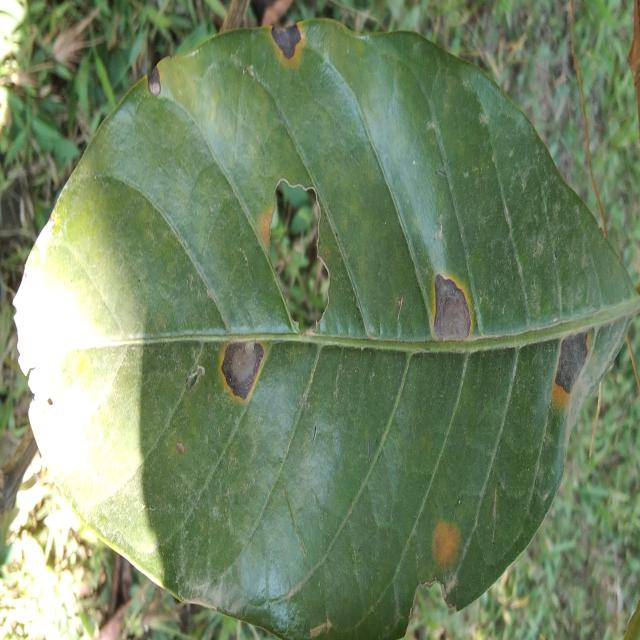Enfermedad-Mancha-de-hierro: (14, 18, 640, 640)
